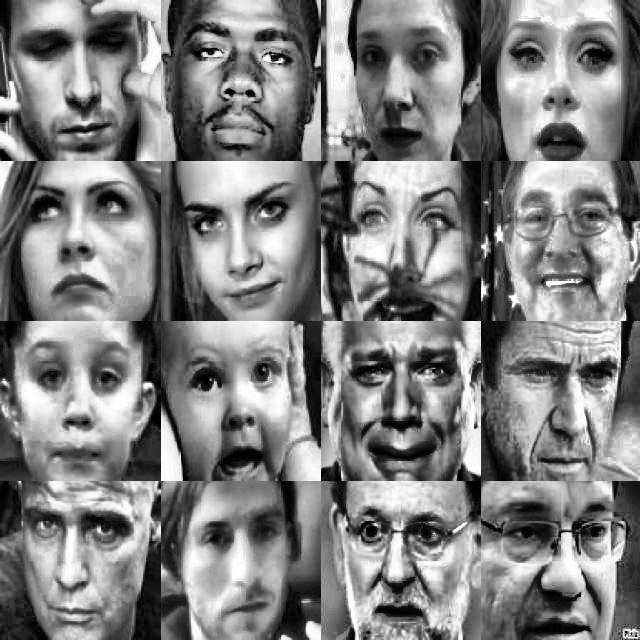angry: (173, 13, 309, 150), (17, 168, 143, 311), (498, 340, 627, 477)
fear: (343, 168, 463, 317), (502, 9, 620, 157), (176, 334, 296, 474), (342, 492, 454, 640)
happy: (172, 165, 304, 313), (504, 176, 628, 308)
neutral: (15, 491, 137, 640), (20, 330, 136, 472), (183, 500, 292, 637)
sad: (491, 489, 627, 640), (12, 9, 150, 149), (336, 335, 467, 475), (348, 12, 459, 150)
